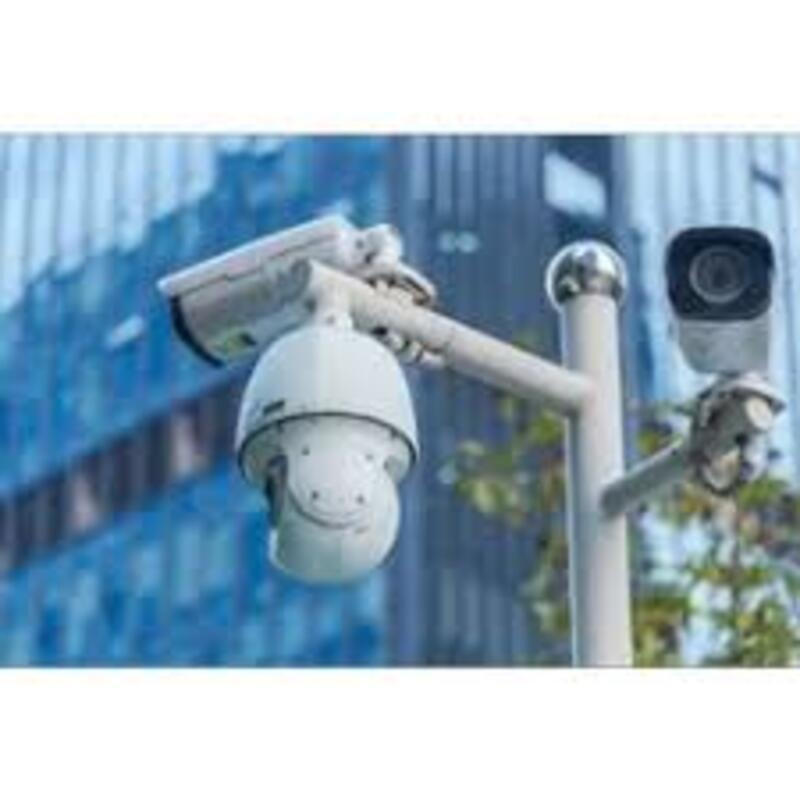bullet: (663, 231, 781, 381)
ptz: (232, 338, 431, 596)
